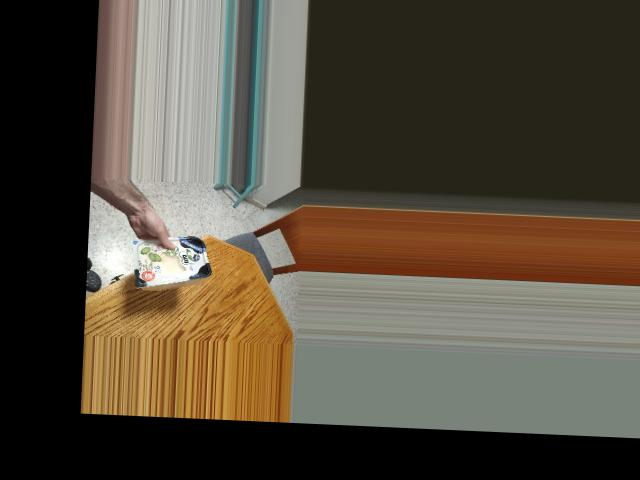cheese: (126, 229, 215, 282)
